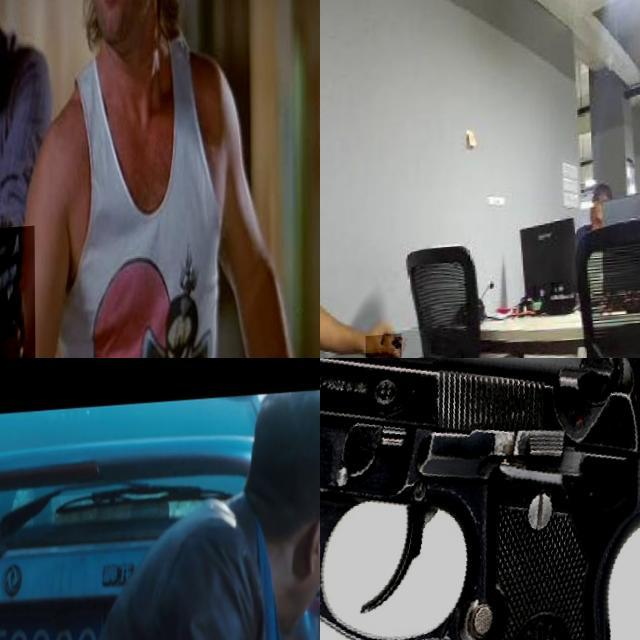gun-knife-thesis - v11 Yolov5 augmented: (320, 358, 640, 640), (0, 69, 43, 266), (0, 230, 39, 358)
